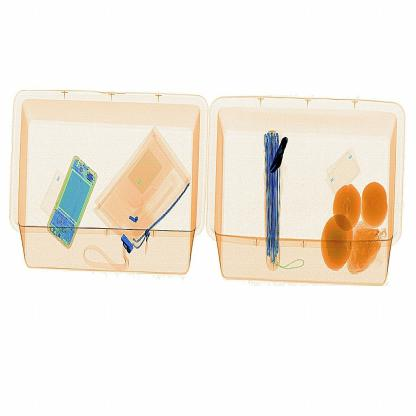knife: (262, 132, 296, 182)
